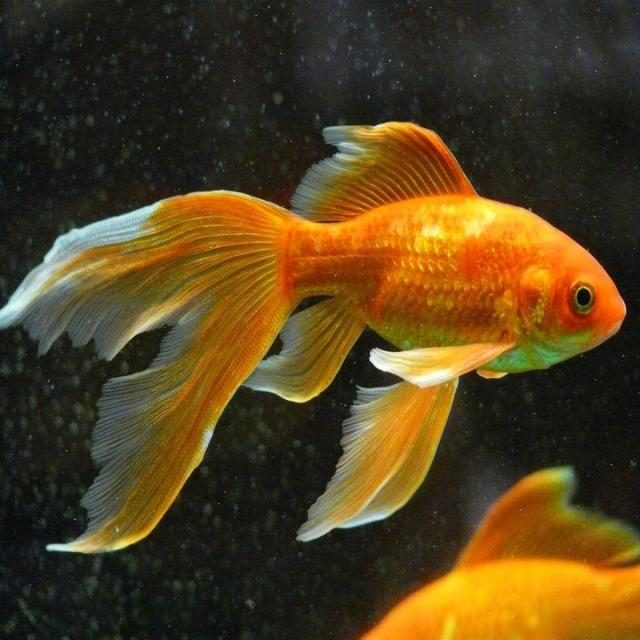GoldFish: (0, 119, 626, 552)
